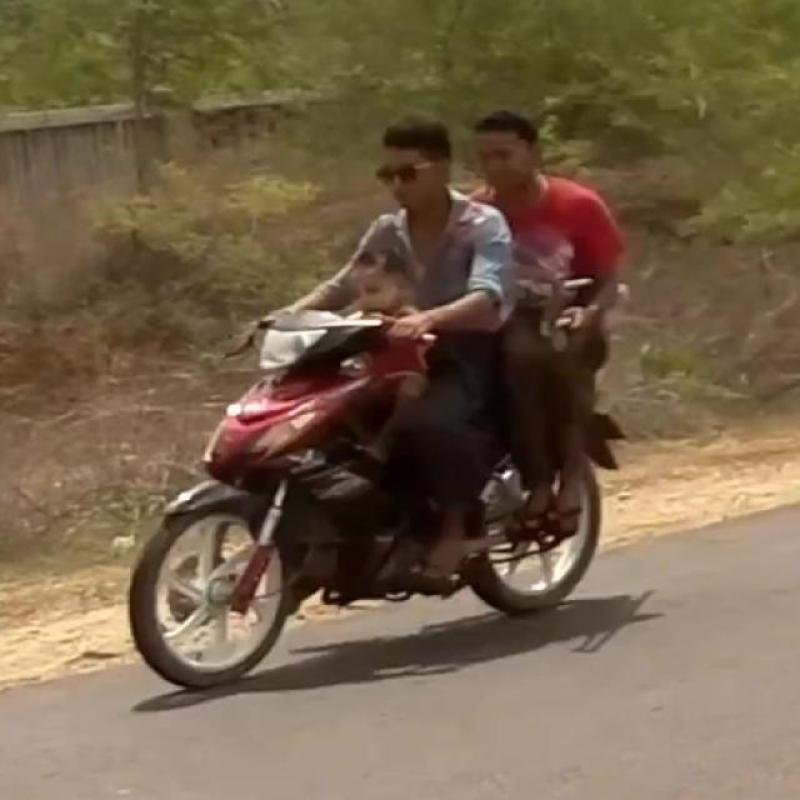nohelmet: (344, 95, 462, 233)
